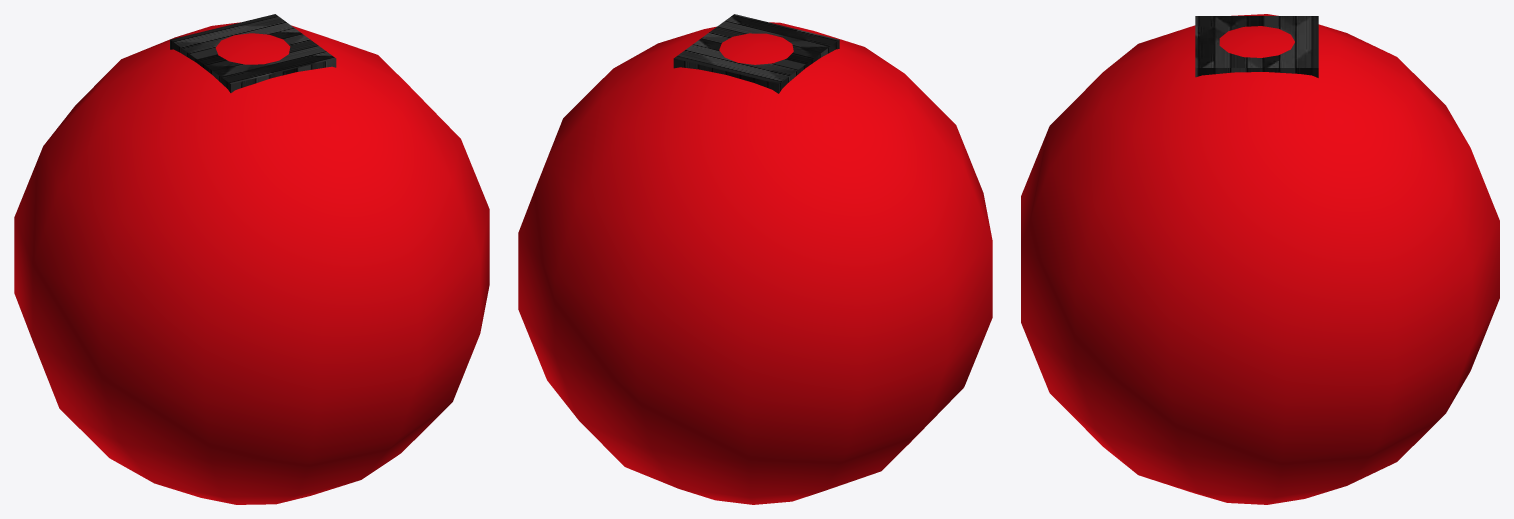
Rendered from Vanguard.glb.
The picture shows the model from 3 angles, left to right: view 1: azimuth 30°, elevation 25°; view 2: azimuth 150°, elevation 25°; view 3: azimuth 270°, elevation 25°; orthographic projection.
Visible parts, largest first — view 1: Sphere, BoxMesh; view 2: Sphere, BoxMesh; view 3: Sphere, BoxMesh.
Boxes of the visible parts, x1,y1,x2,y2 form: Sphere: [14, 22, 489, 504]; BoxMesh: [170, 14, 336, 92]; Sphere: [518, 22, 992, 504]; BoxMesh: [673, 14, 839, 93]; Sphere: [1021, 14, 1499, 504]; BoxMesh: [1195, 16, 1318, 77].
Size of what is drawn, in the model's own units: 1.96 by 2 by 1.94.
3 materials, 2 textured.
